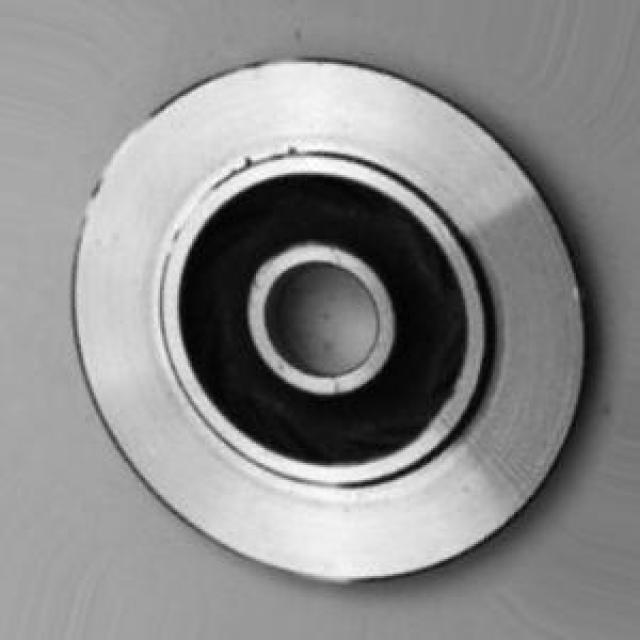Defect: (227, 139, 270, 182)
